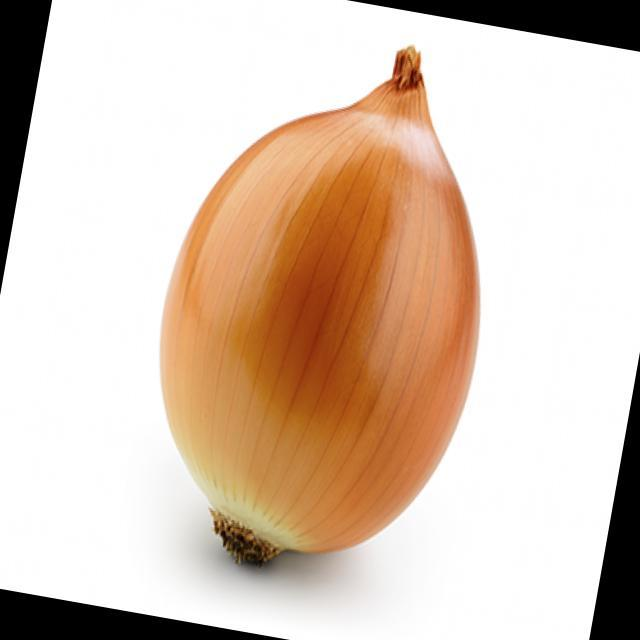ONIONS: (123, 32, 533, 600)
